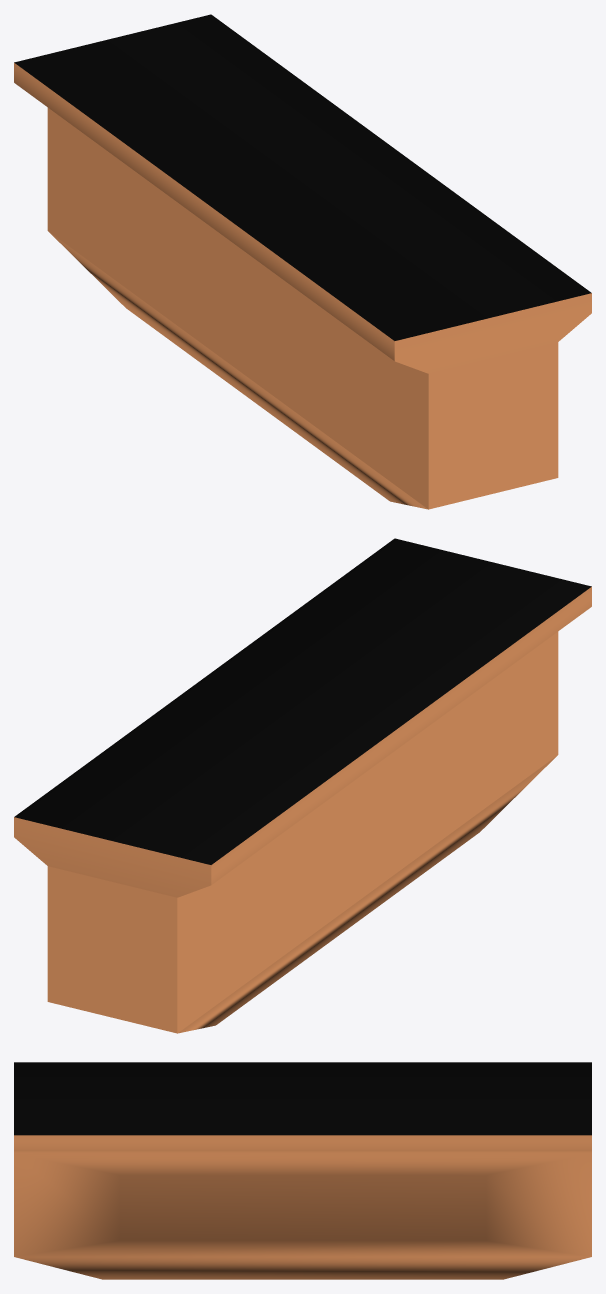
File: platform.glb
The picture shows the model from 3 angles, top to bottom: view 1: azimuth 30°, elevation 25°; view 2: azimuth 150°, elevation 25°; view 3: azimuth 270°, elevation 25°; orthographic projection. The views are drawn at different scales.
Visible parts, largest first — view 1: Cube; view 2: Cube; view 3: Cube.
Boxes of the visible parts, x1=… form: Cube: x1=14, y1=14, x2=591, y2=509; Cube: x1=14, y1=538, x2=591, y2=1033; Cube: x1=14, y1=1062, x2=591, y2=1279.
Bounding box in the file's own units: 1.54 × 1.62 × 5.16.
